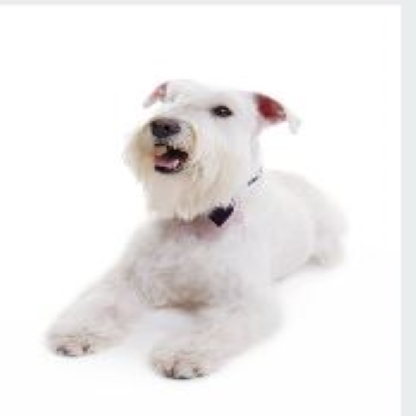maltese: (40, 74, 352, 380)
